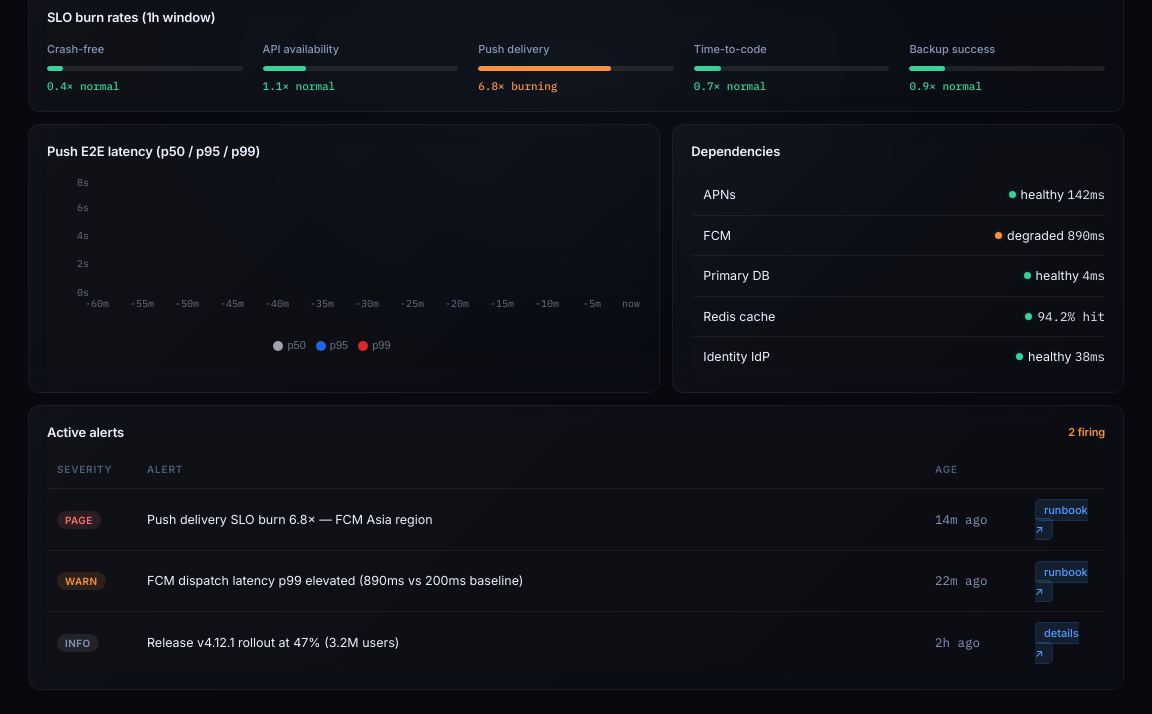
Test case: SREDashboard — severity badge filter › filters alerts to only the selected severity
(page scrolled)
# Click the "info" badge — only 1 info alert exists
Click the button "info": (78, 643) top-left (57, 634), bottom-right (98, 652)
(page scrolled)
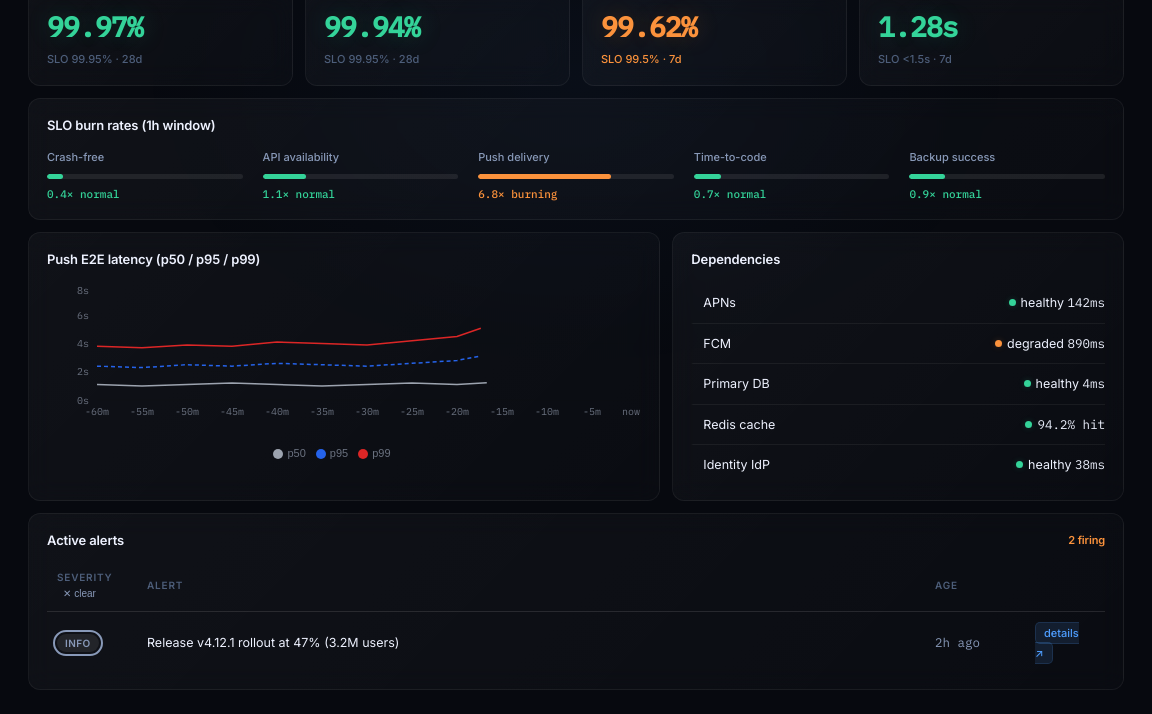
Check: the text "Release v4.12.1 rollout at 47% (3.2M users)" is shown, box top-left (137, 612), bottom-right (925, 673)
Check: the text "Push delivery SLO burn 6.8× — FCM Asia region" is gone
